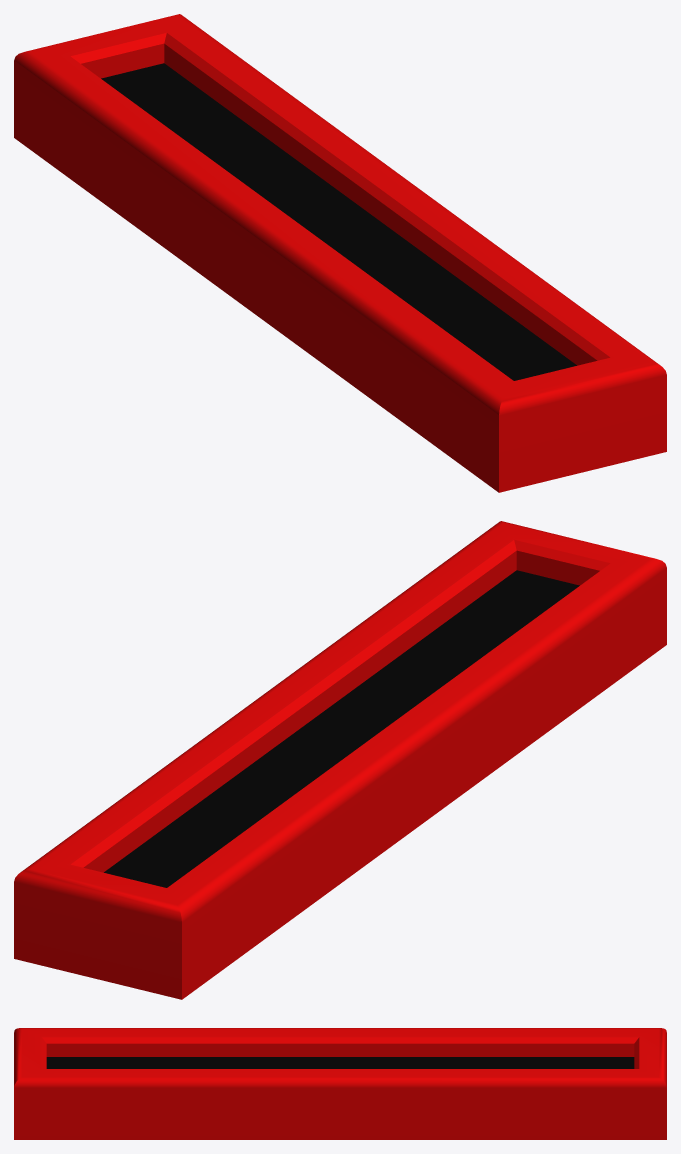
File: Display_easy.fbx
The picture shows the model from 3 angles, top to bottom: view 1: azimuth 30°, elevation 25°; view 2: azimuth 150°, elevation 25°; view 3: azimuth 270°, elevation 25°; orthographic projection. The views are drawn at different scales.
Parts seen in each view (by area): view 1: pCube3; view 2: pCube3; view 3: pCube3.
Boxes of the visible parts, x1,y1,x2,y2 form: pCube3: [14, 14, 666, 492]; pCube3: [14, 521, 666, 999]; pCube3: [14, 1028, 666, 1139].
Size of the model in its own units: 2 by 1 by 10.
